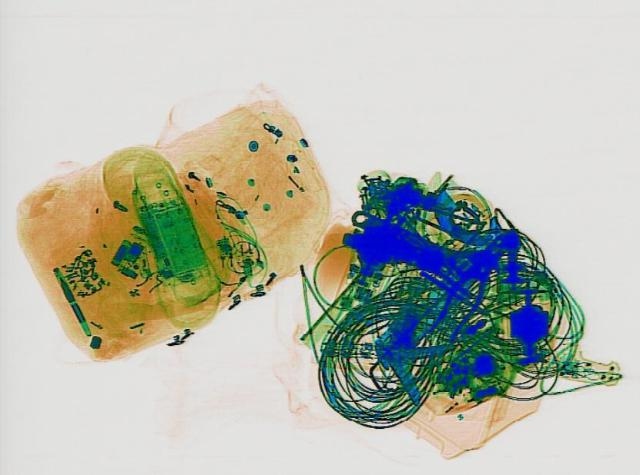Pliers: (418, 244, 508, 346)
Wrench: (335, 199, 509, 290)
